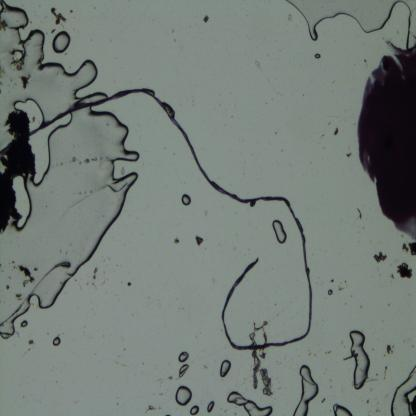Air bubble: (0, 111, 146, 342), (0, 0, 105, 101), (285, 0, 416, 51), (27, 114, 72, 188), (348, 327, 371, 390), (293, 365, 319, 415), (390, 365, 416, 415), (227, 390, 273, 415), (12, 176, 31, 232), (14, 96, 43, 128), (50, 29, 72, 56), (174, 385, 193, 407), (272, 219, 288, 243), (333, 402, 352, 416), (220, 360, 232, 378), (178, 363, 190, 378), (178, 351, 189, 363), (181, 193, 191, 206), (52, 335, 61, 348), (206, 400, 215, 412), (190, 406, 200, 416), (19, 318, 29, 327), (314, 52, 322, 60), (327, 288, 333, 297)
Background material: (0, 109, 37, 232), (250, 350, 273, 397), (10, 45, 30, 73), (14, 263, 36, 287), (250, 320, 267, 345), (395, 261, 413, 280), (50, 7, 67, 25), (372, 250, 388, 264), (18, 73, 32, 89), (90, 262, 99, 283), (354, 206, 362, 223), (0, 19, 10, 31), (194, 235, 204, 246), (409, 240, 416, 255), (386, 343, 394, 356), (202, 12, 210, 25), (401, 242, 409, 254), (173, 236, 181, 246), (324, 347, 332, 355), (333, 126, 339, 136), (346, 151, 353, 159), (126, 280, 132, 288), (321, 397, 328, 403), (328, 278, 334, 283)
Cotton: (5, 88, 312, 351)
Pen: (358, 42, 416, 241)
